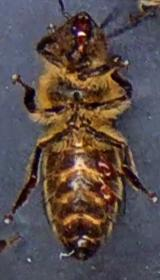varroa_mite: (92, 180, 116, 204), (91, 154, 117, 176)
